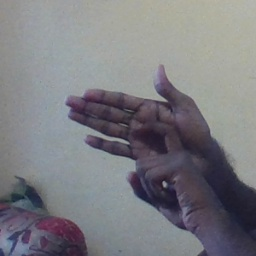R: (65, 62, 217, 214)
